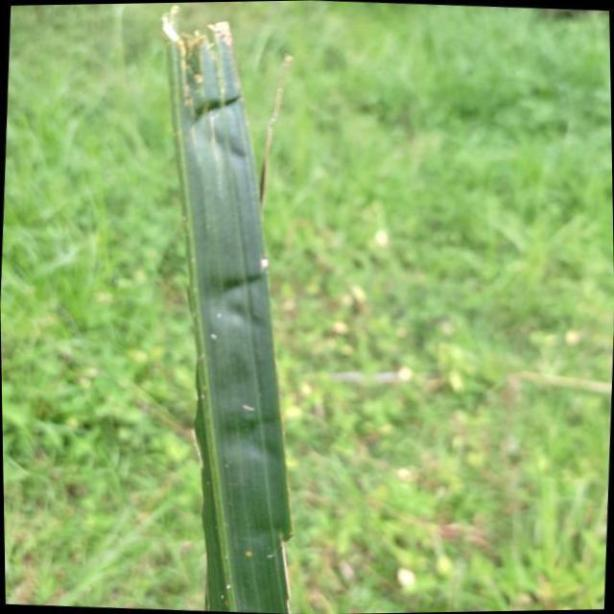Boron: (157, 5, 294, 614)
